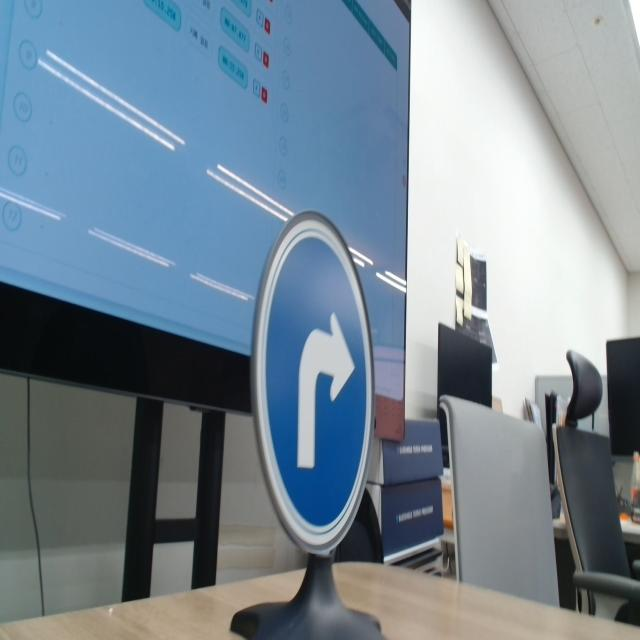right_dierection: (245, 218, 388, 557)
